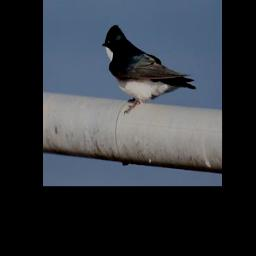Swallow: (102, 24, 197, 114)
